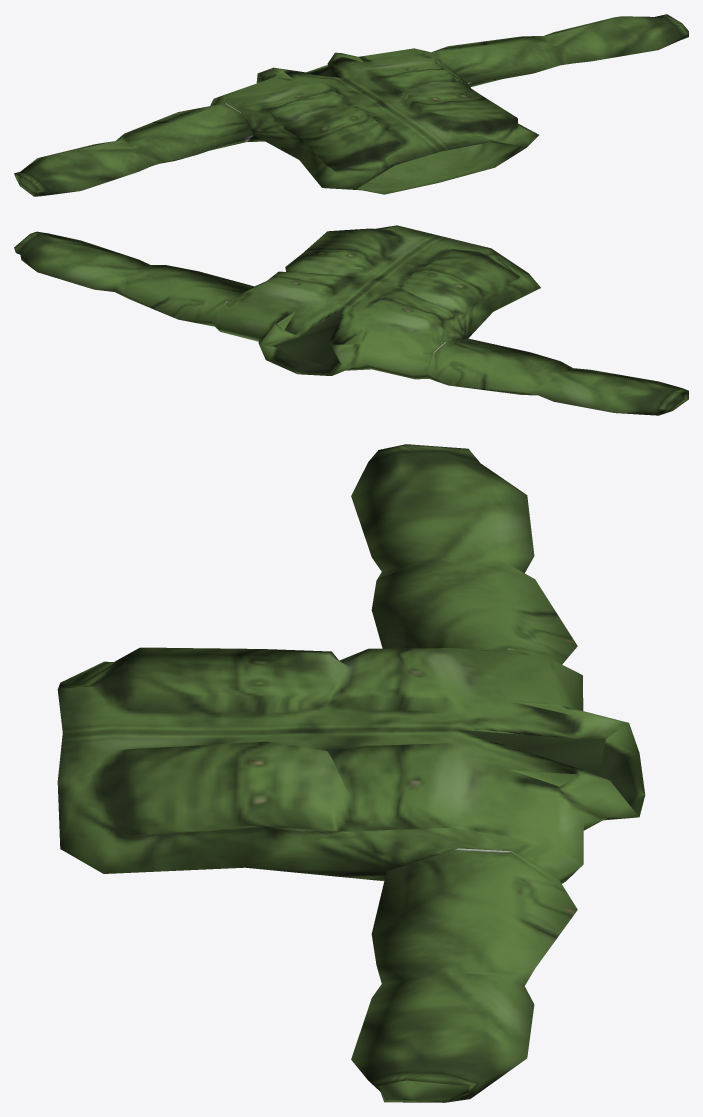
Rendered from Kurtk_4_Ground.fbx.
3 renders of one model, top to bottom at view 1: azimuth 30°, elevation 25°; view 2: azimuth 150°, elevation 25°; view 3: azimuth 270°, elevation 25°, orthographic. The views are drawn at different scales.
Visible parts, largest first — view 1: Body.028; view 2: Body.028; view 3: Body.028.
Boxes of the visible parts, left/top/right/bottom form: Body.028: left=14, top=14, right=688, bottom=196; Body.028: left=14, top=225, right=688, bottom=415; Body.028: left=57, top=444, right=645, bottom=1102.
Bounding box in the file's own units: 0.7601 × 0.0518 × 0.2954.
